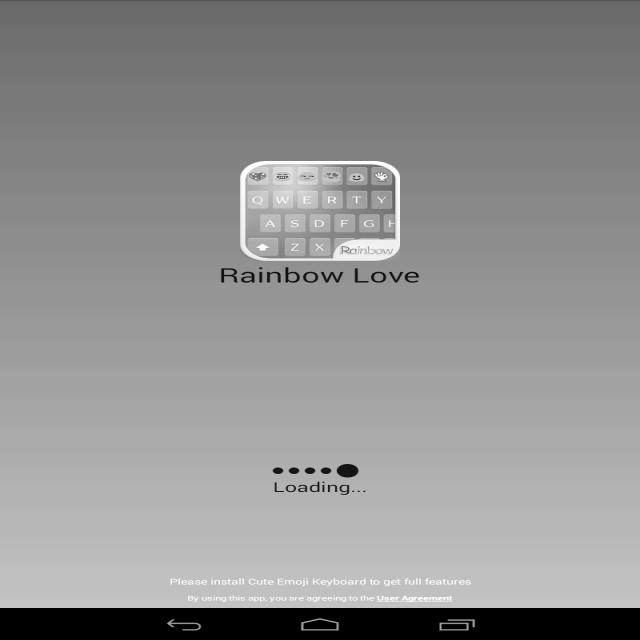ImageView: (241, 158, 414, 268)
TextView: (210, 258, 439, 286), (235, 481, 388, 499)
